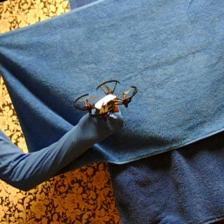drone: (71, 77, 140, 125)
